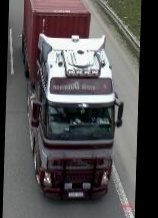truck: (17, 0, 128, 203)
